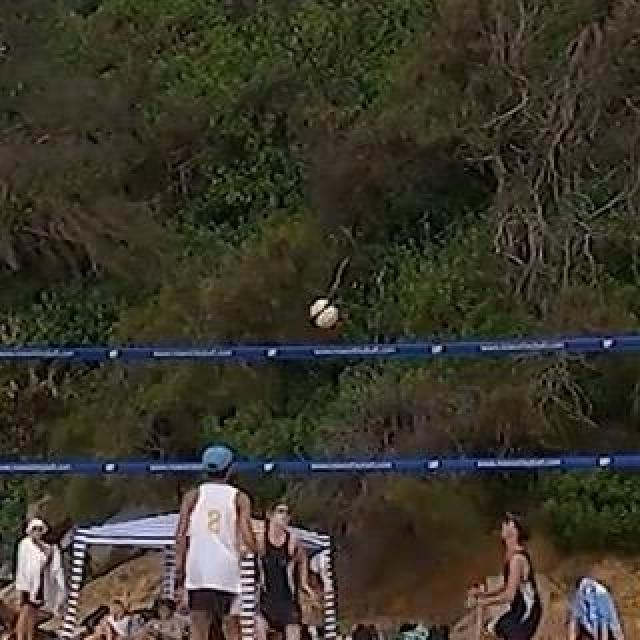volleyball: (310, 299, 338, 329)
